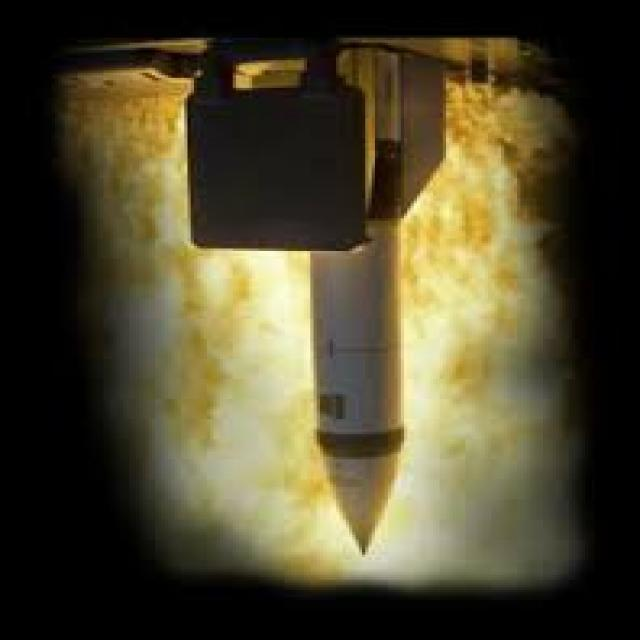missile: (296, 55, 450, 560)
